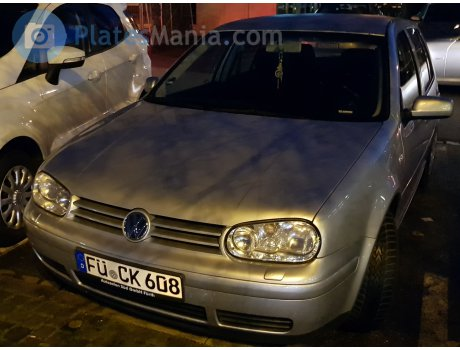License Plates: (83, 258, 175, 283)
